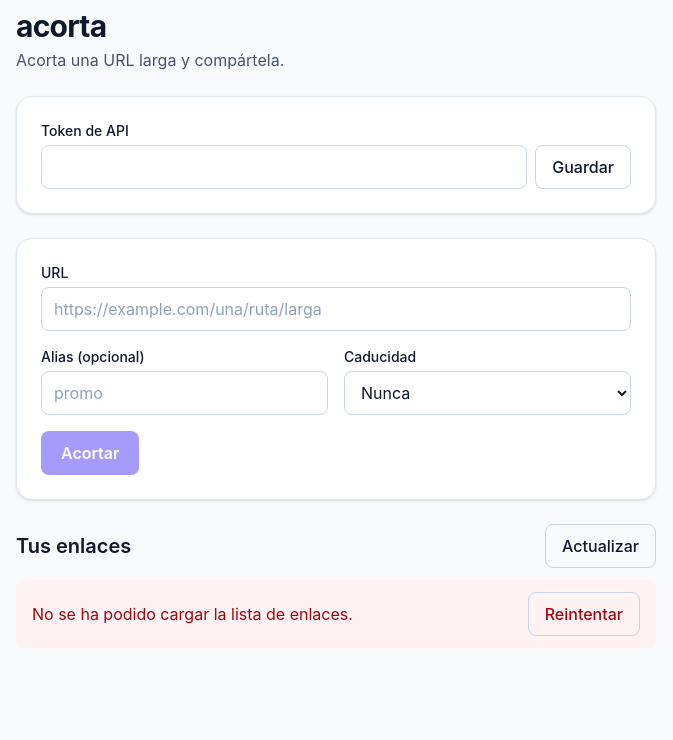
Test case: listado › WEB-14: si falla la carga muestra el mensaje y un botón para reintentar
Click the button "Reintentar". click: [584, 614]
box: [528, 592, 640, 636]
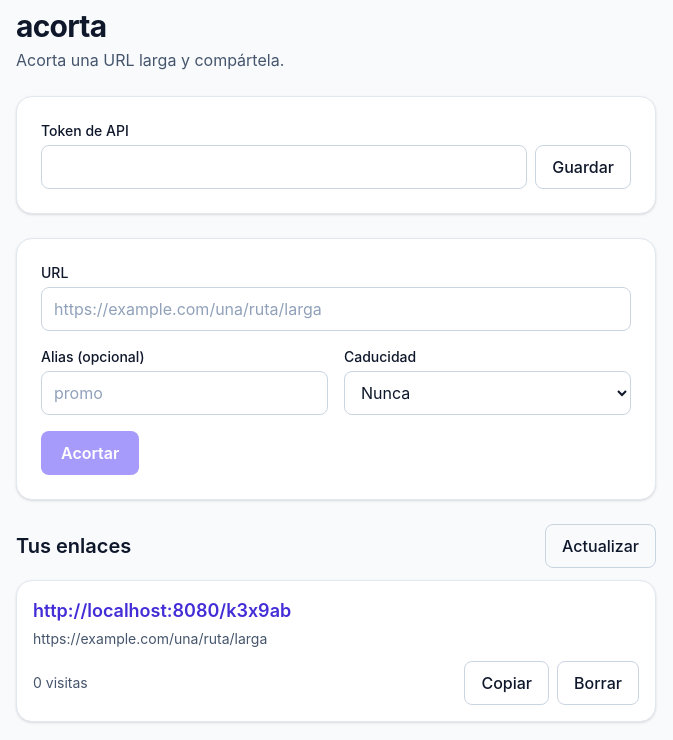
Now the text "No se ha podido cargar la lista de enlaces." is gone
